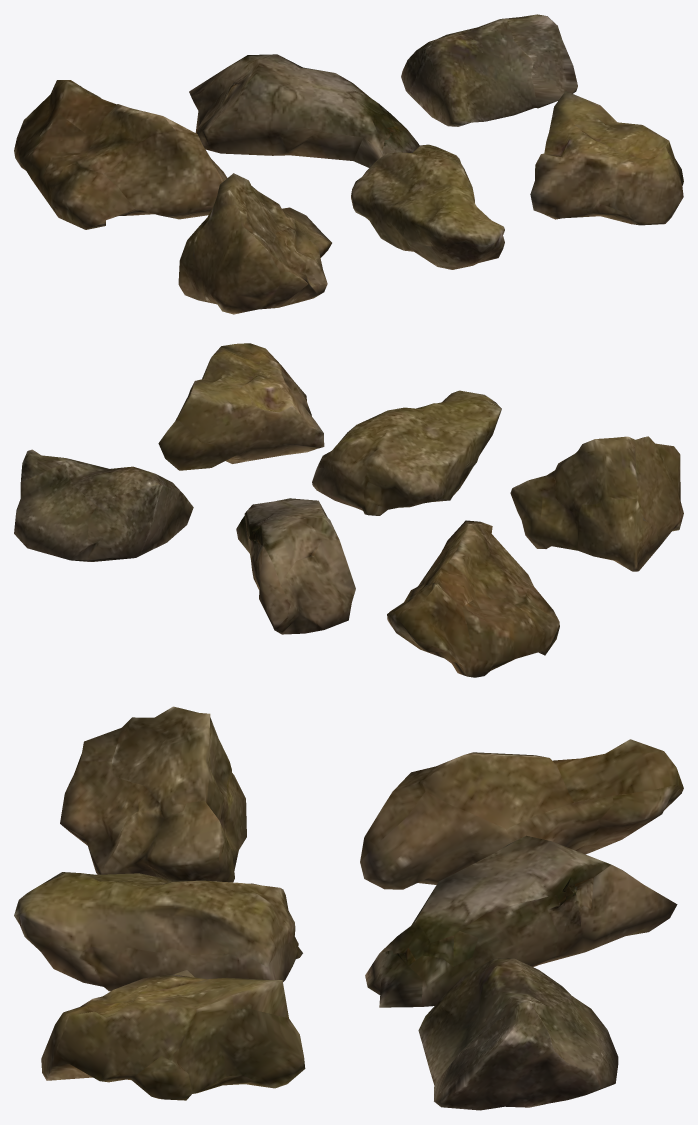
Rendered from rock_moss_set_01.glb.
3 renders of one model, top to bottom at view 1: azimuth 30°, elevation 25°; view 2: azimuth 150°, elevation 25°; view 3: azimuth 270°, elevation 25°, orthographic. The views are drawn at different scales.
Visible parts, largest first — view 1: rock_moss_set_01_rock01, rock_moss_set_01_rock02, rock_moss_set_01_rock06, rock_moss_set_01_rock04, rock_moss_set_01_rock03, rock_moss_set_01_rock05; view 2: rock_moss_set_01_rock04, rock_moss_set_01_rock01, rock_moss_set_01_rock05, rock_moss_set_01_rock03, rock_moss_set_01_rock06, rock_moss_set_01_rock02; view 3: rock_moss_set_01_rock01, rock_moss_set_01_rock02, rock_moss_set_01_rock05, rock_moss_set_01_rock06, rock_moss_set_01_rock04, rock_moss_set_01_rock03.
Part boxes in pixels (box(x1,y1,x2,y2)): rock_moss_set_01_rock01: box(14, 80, 227, 229); rock_moss_set_01_rock02: box(189, 54, 419, 167); rock_moss_set_01_rock06: box(530, 91, 683, 225); rock_moss_set_01_rock04: box(178, 173, 331, 314); rock_moss_set_01_rock03: box(401, 14, 577, 126); rock_moss_set_01_rock05: box(351, 144, 504, 269); rock_moss_set_01_rock04: box(510, 436, 683, 571); rock_moss_set_01_rock01: box(387, 520, 559, 677); rock_moss_set_01_rock05: box(312, 390, 501, 515); rock_moss_set_01_rock03: box(14, 449, 193, 561); rock_moss_set_01_rock06: box(158, 343, 324, 470); rock_moss_set_01_rock02: box(236, 498, 355, 634); rock_moss_set_01_rock01: box(360, 739, 683, 889); rock_moss_set_01_rock02: box(365, 835, 677, 1007); rock_moss_set_01_rock05: box(14, 872, 302, 991); rock_moss_set_01_rock06: box(41, 970, 305, 1100); rock_moss_set_01_rock04: box(60, 706, 246, 882); rock_moss_set_01_rock03: box(418, 958, 618, 1110).
Bounding box in the file's own units: 8 × 1.76 × 6.94.
Materials: 1 (1 with a texture image).
